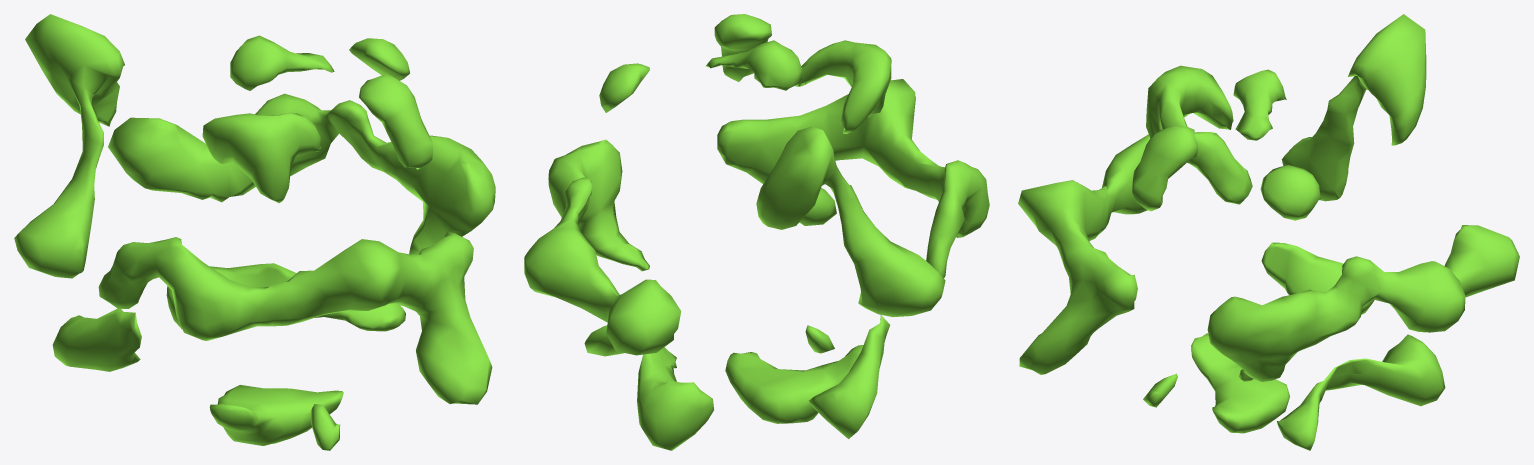
Rendered from p_trashbot_trashball01_trashballgoo_pose0.fbx.
The picture shows the model from 3 angles, left to right: view 1: azimuth 30°, elevation 25°; view 2: azimuth 150°, elevation 25°; view 3: azimuth 270°, elevation 25°; orthographic projection. The views are drawn at different scales.
Visible parts, largest first — view 1: trashball_goo_pose0; view 2: trashball_goo_pose0; view 3: trashball_goo_pose0.
Part boxes in pixels (bbox=[...]): trashball_goo_pose0: bbox=[14, 14, 495, 450]; trashball_goo_pose0: bbox=[524, 14, 989, 450]; trashball_goo_pose0: bbox=[1018, 14, 1519, 450].
Bounding box in the file's own units: 12.54 × 11.14 × 14.2.
